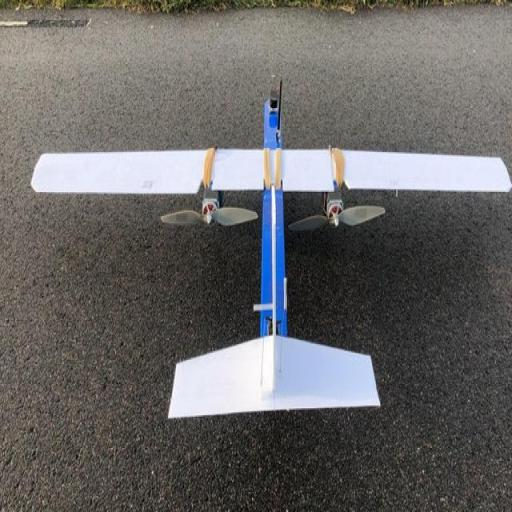uav: (29, 78, 512, 456)
